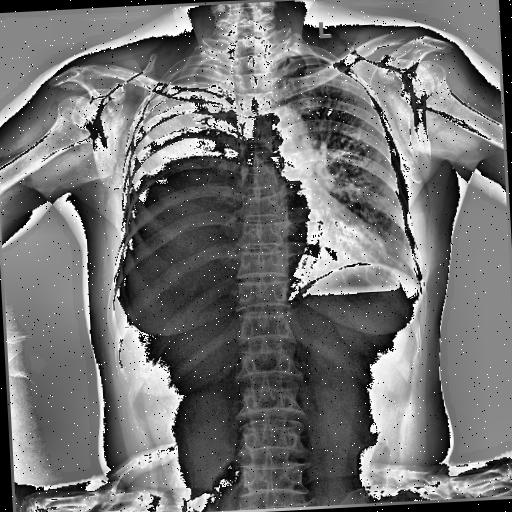0- Aortic enlargement: (258, 102, 314, 172), (258, 103, 312, 163)
10- Pleural effusion: (94, 60, 246, 308), (115, 61, 253, 311), (107, 48, 243, 290)
